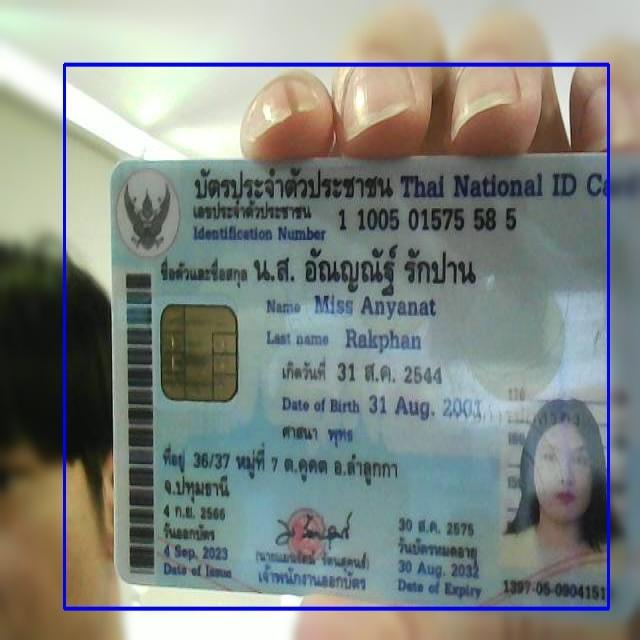Address_th: (160, 439, 410, 507)
Date_of_Birth: (367, 390, 482, 426)
Date_of_Expiry: (395, 553, 487, 585)
Date_of_Issue: (160, 538, 233, 564)
First_Name: (311, 290, 439, 325)
ID_Number: (334, 203, 522, 236)
Image: (506, 385, 628, 582)
Last_Name: (341, 325, 426, 357)
Thai_Name: (250, 238, 480, 296)
